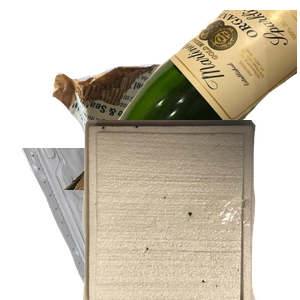cardboard: (50, 62, 228, 226)
glass: (60, 10, 300, 190)
plastic: (19, 148, 259, 300)
trash: (80, 120, 300, 300)
